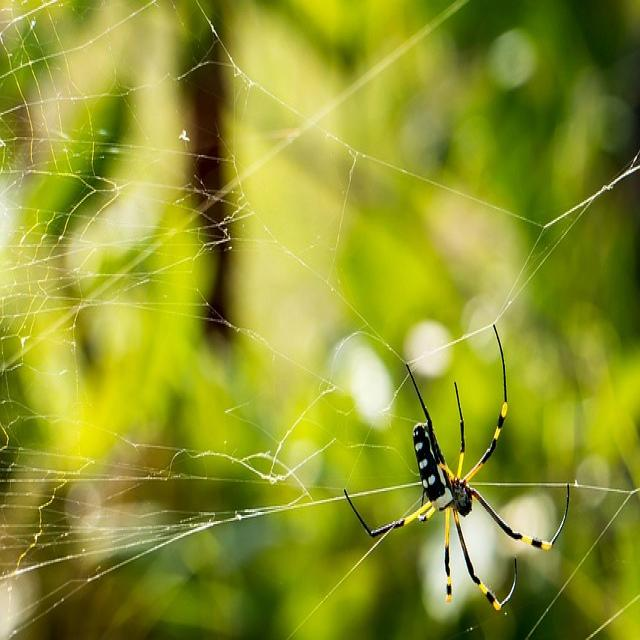spyder: (374, 324, 569, 613), (455, 382, 465, 453), (446, 521, 453, 605)
